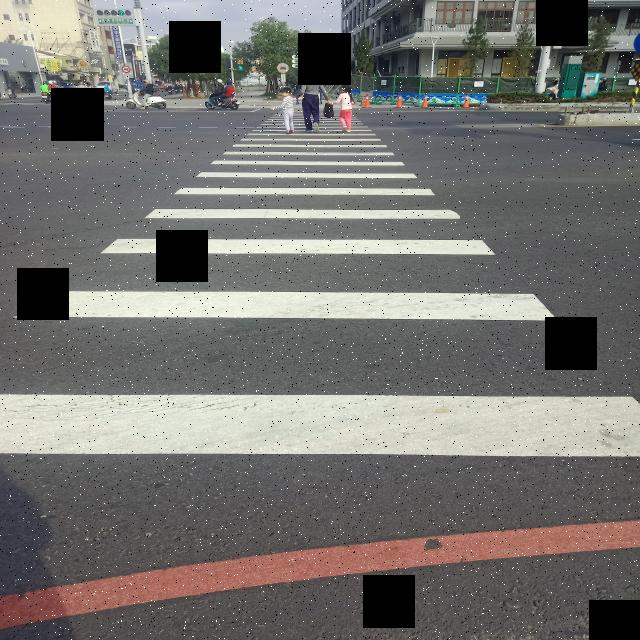person: (300, 68, 330, 132), (332, 84, 355, 134), (272, 88, 295, 135), (140, 80, 155, 109), (218, 80, 235, 104)
zebra crossing: (0, 102, 640, 461)
